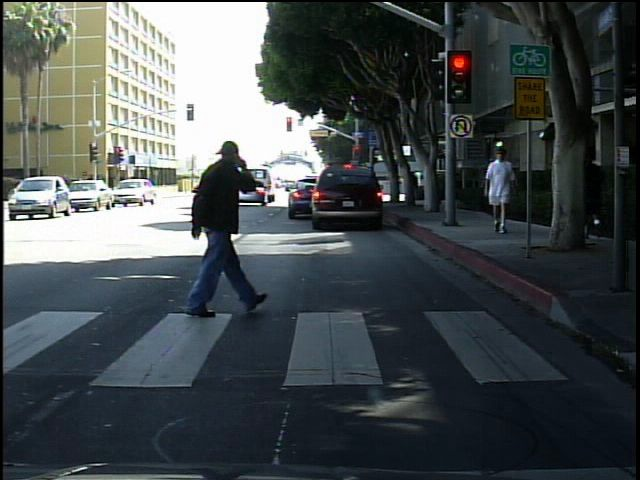person: (161, 121, 273, 335), (480, 145, 523, 240), (577, 137, 610, 246)
